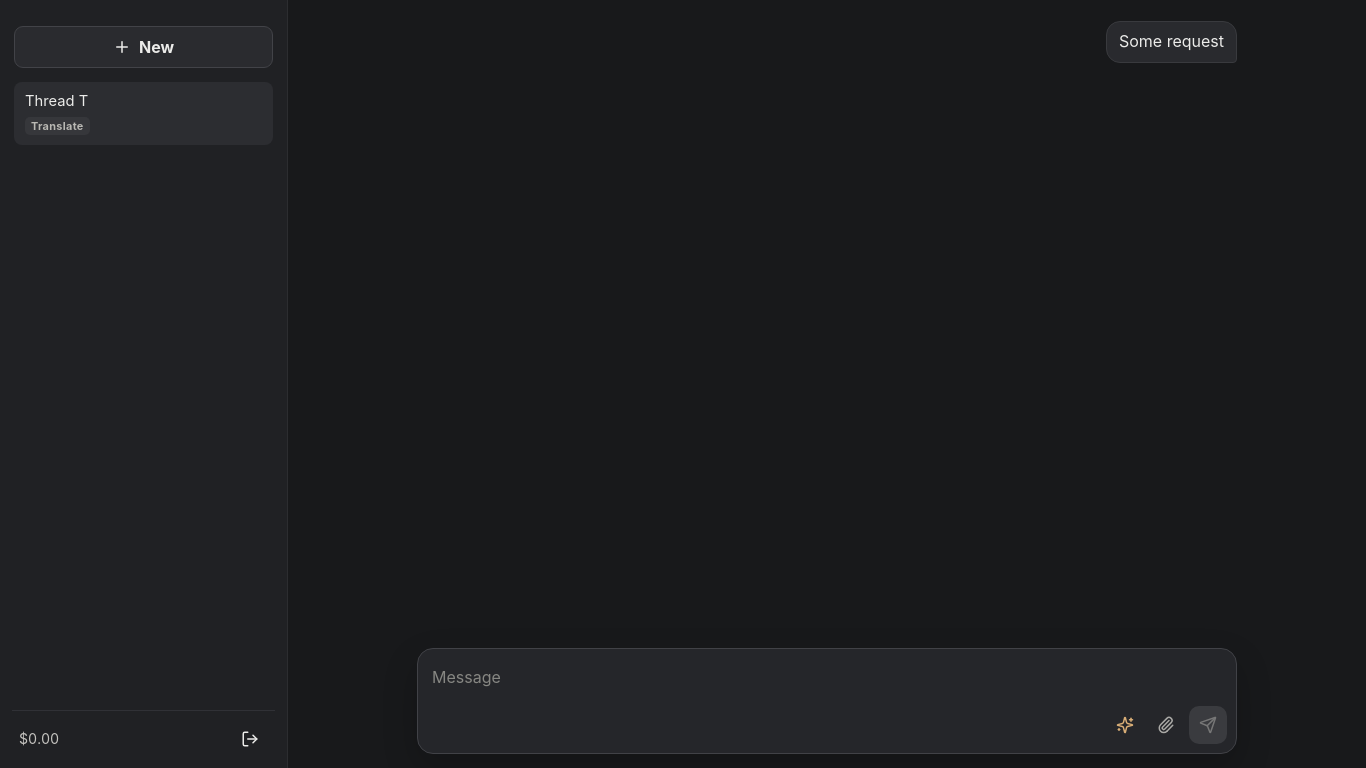
Test: L-10 / F-3, F-5, F-6, F-7: failures are reported and recoverable › closes a prompt handoff whose conversation was deleted elsewhere
Click the button named "Create prompt handoff" at (1125,725), box [1107, 707, 1143, 743]
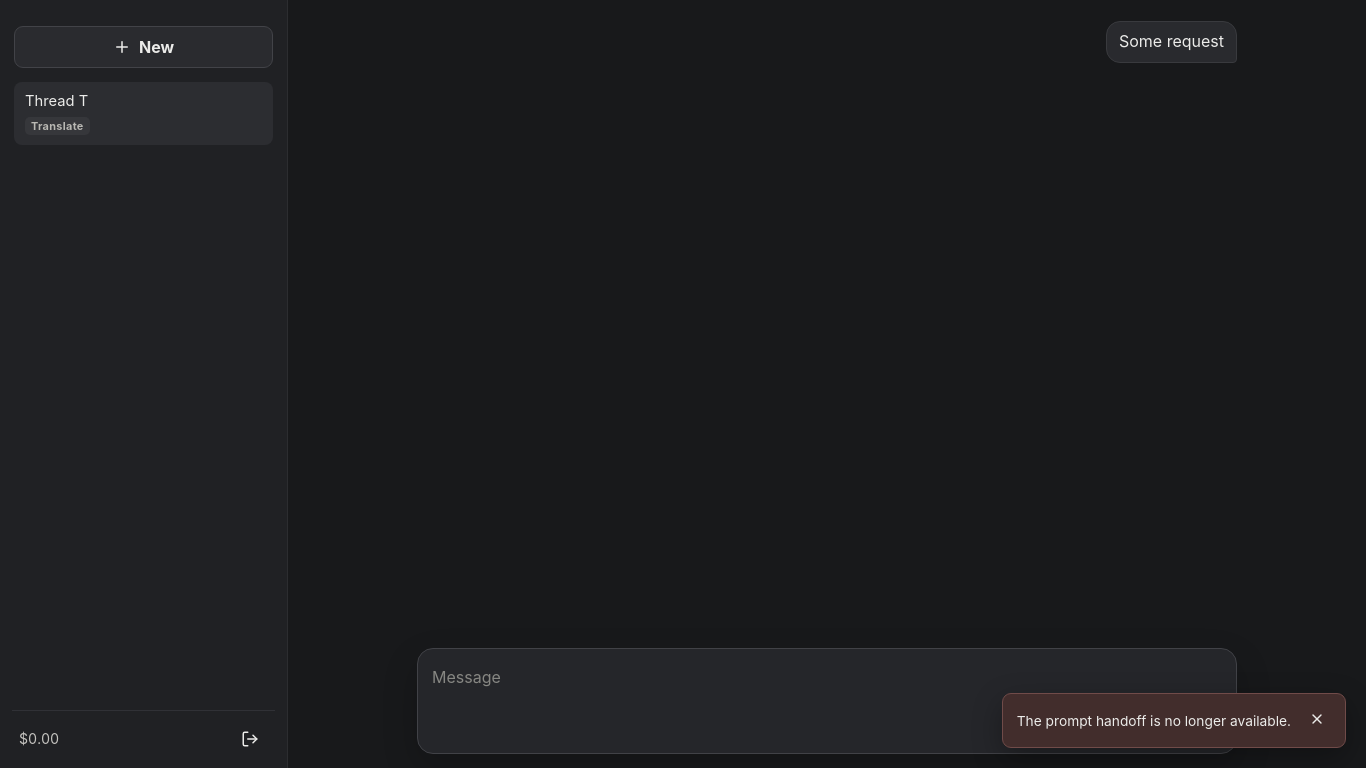
Now the message reads "The prompt handoff is no longer available.", box [1017, 712, 1291, 728]
